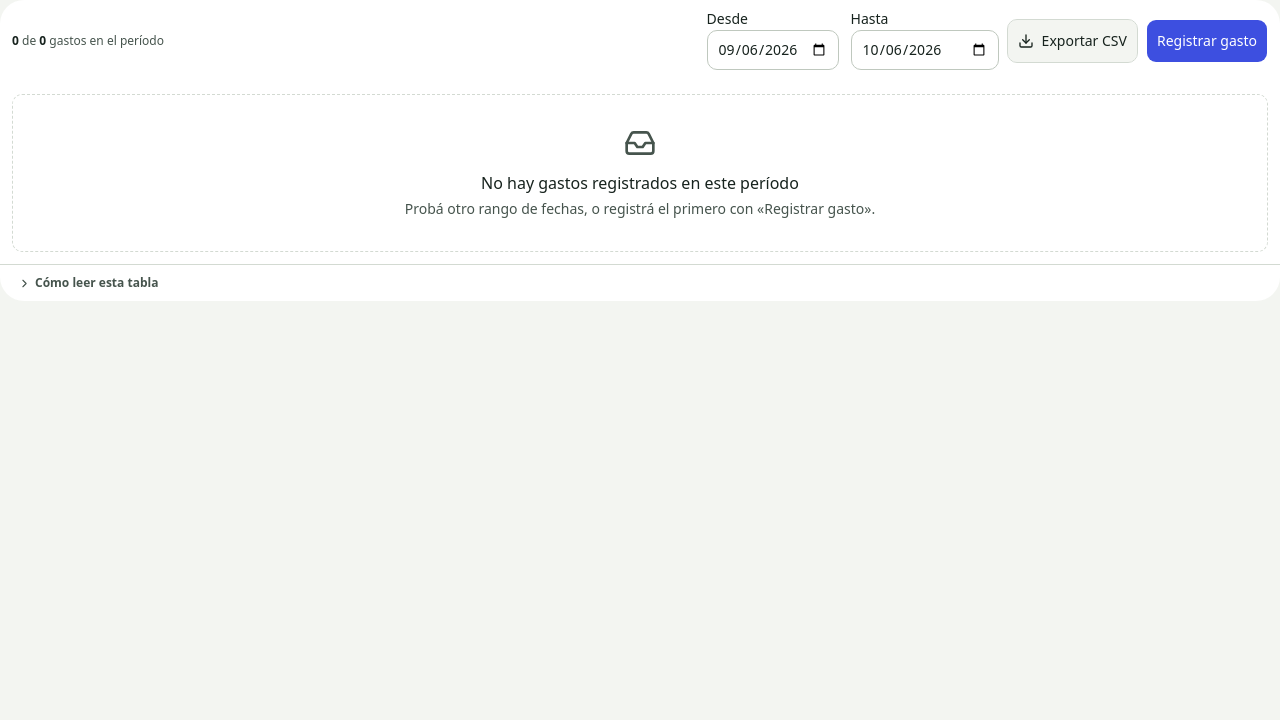
ExpensesTab — c9: un gasto pagado de la mano del dueño › no ofrece «Cajón»: un gasto del cajón entra primero como egreso del turno
This screenshot has width=1280, height=720.
Click the button "Registrar gasto" at x=1207, y=41, box top-left (1146, 19), bottom-right (1268, 63)
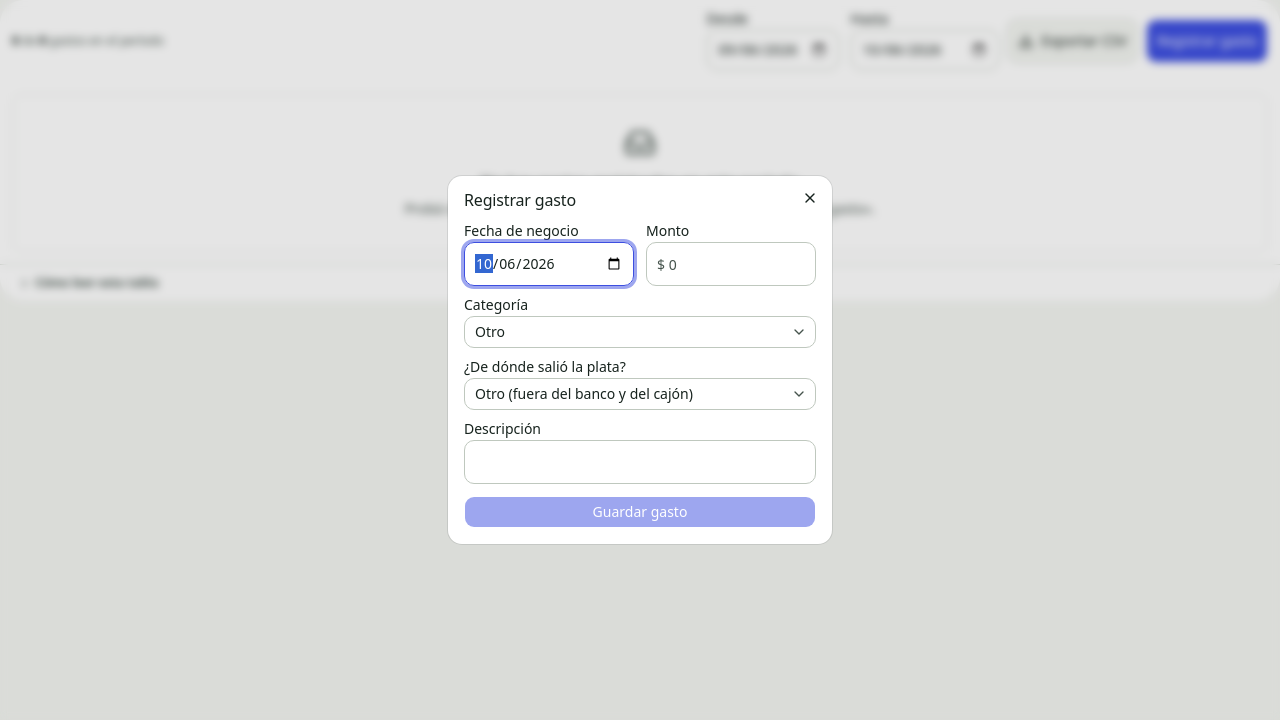
Click the dropdown named "¿De dónde salió la plata?" at x=640, y=394, box top-left (464, 378), bottom-right (816, 410)
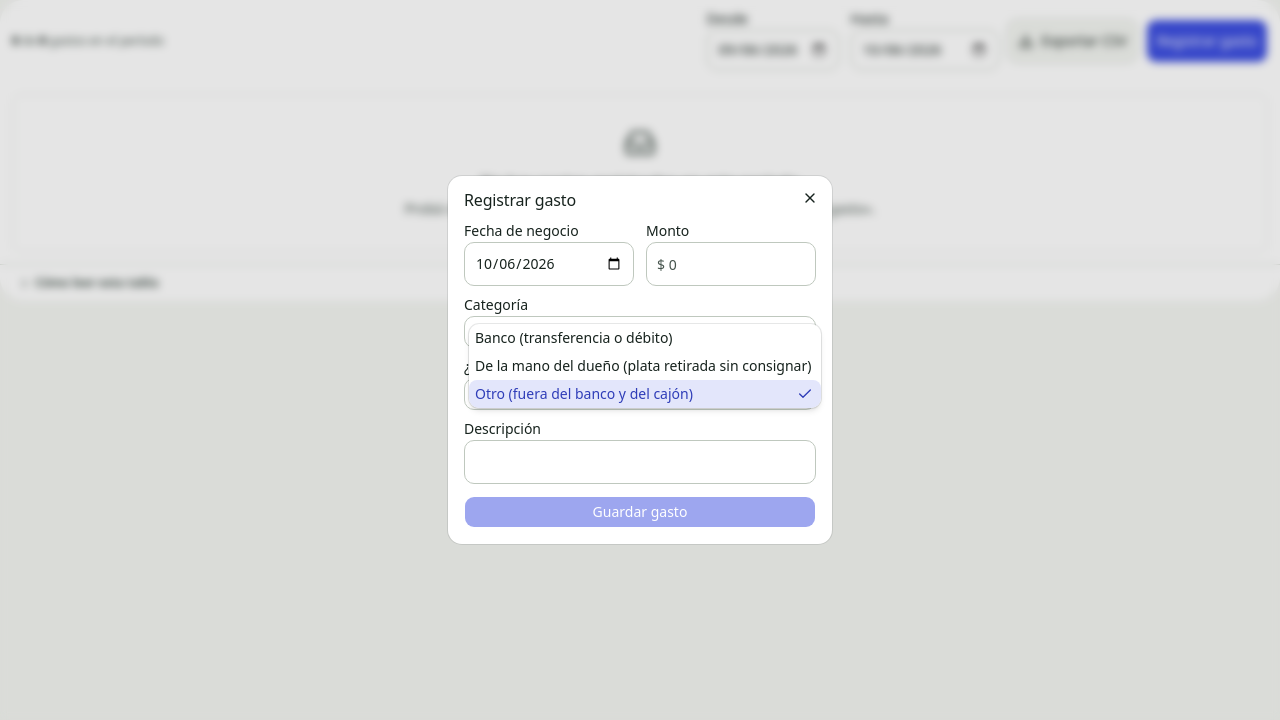
Expected: the option "De la mano del dueño (plata retirada sin consignar)" is shown, top-left (469, 352), bottom-right (821, 380)
